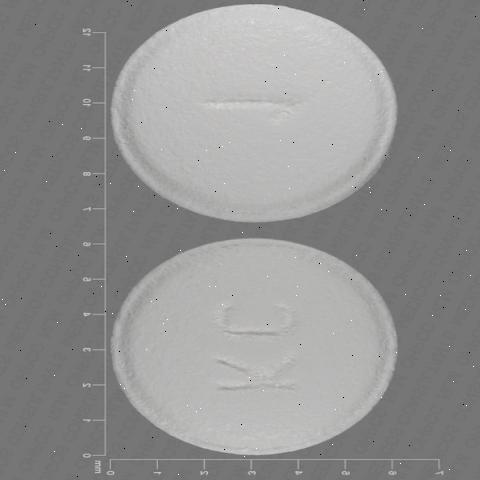Pill: (57, 6, 402, 228), (86, 228, 406, 460)
